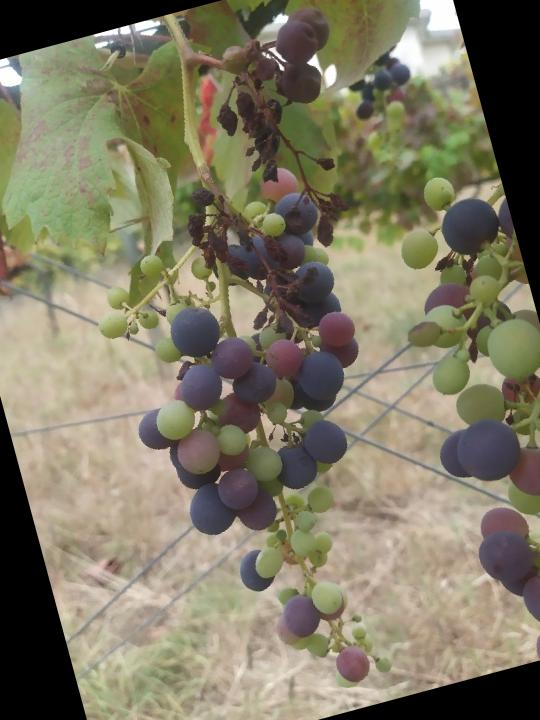grape: (71, 155, 445, 720), (370, 161, 540, 670), (193, 2, 386, 269)
